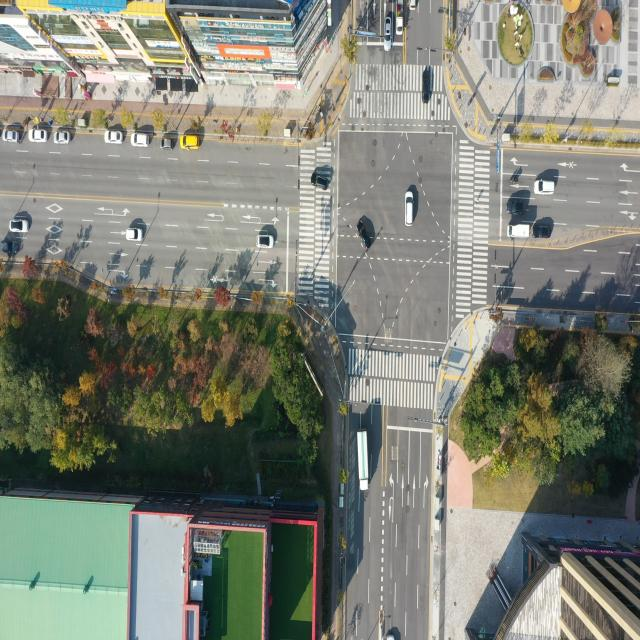car: (355, 217, 371, 248), (405, 191, 416, 227), (383, 15, 392, 53), (532, 220, 551, 238), (422, 70, 431, 105), (181, 135, 200, 150), (534, 180, 554, 194), (9, 219, 28, 233), (105, 131, 124, 145), (30, 130, 48, 144), (132, 134, 150, 148), (3, 130, 21, 144), (311, 176, 329, 190), (510, 201, 527, 215), (1, 242, 18, 256), (128, 229, 144, 243), (259, 236, 276, 249), (56, 132, 72, 144), (161, 138, 177, 150)
medium_truck: (358, 429, 370, 491)
small_truck: (506, 224, 530, 240), (395, 0, 403, 34), (409, 0, 416, 11)
